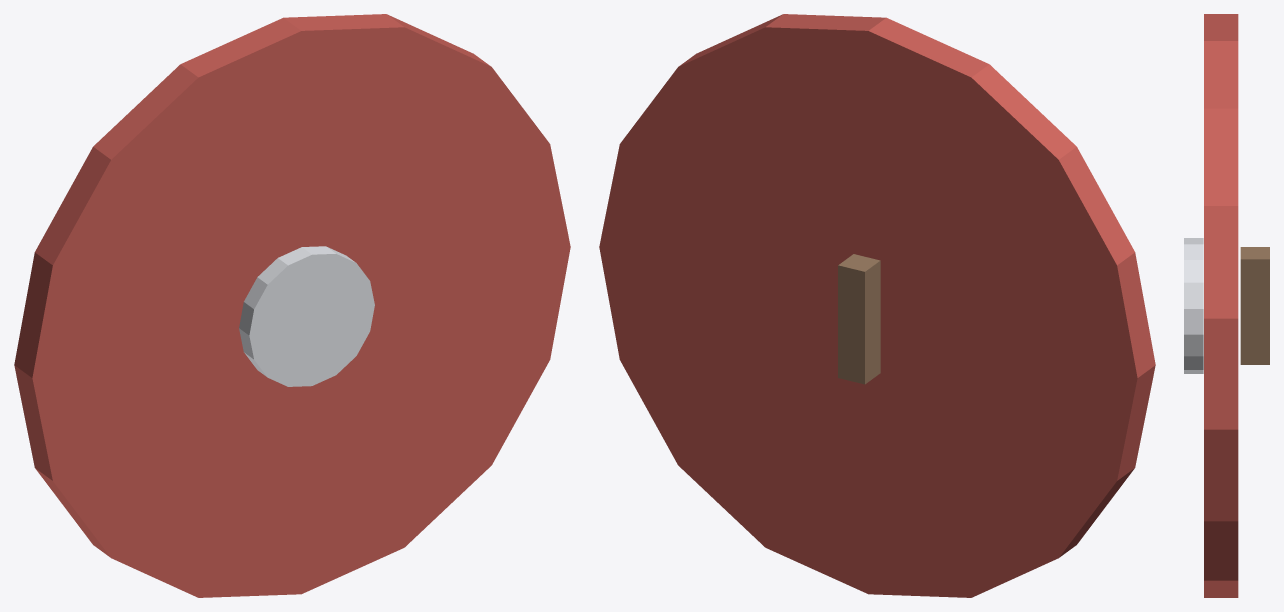
The model's file is shield.glb.
3 renders of one model, left to right at view 1: azimuth 30°, elevation 25°; view 2: azimuth 150°, elevation 25°; view 3: azimuth 270°, elevation 25°, orthographic. The views are drawn at different scales.
Visible parts, largest first — view 1: shield0, shield1; view 2: shield0, shield2; view 3: shield0, shield2, shield1.
Part boxes in pixels (x1,y1,x2,y2): shield0: [14, 14, 570, 597]; shield1: [239, 246, 374, 386]; shield0: [599, 14, 1155, 597]; shield2: [838, 254, 880, 384]; shield0: [1204, 14, 1238, 597]; shield2: [1240, 247, 1269, 364]; shield1: [1184, 238, 1203, 373].
Bounding box in the file's own units: 0.6 × 0.6 × 0.088.
